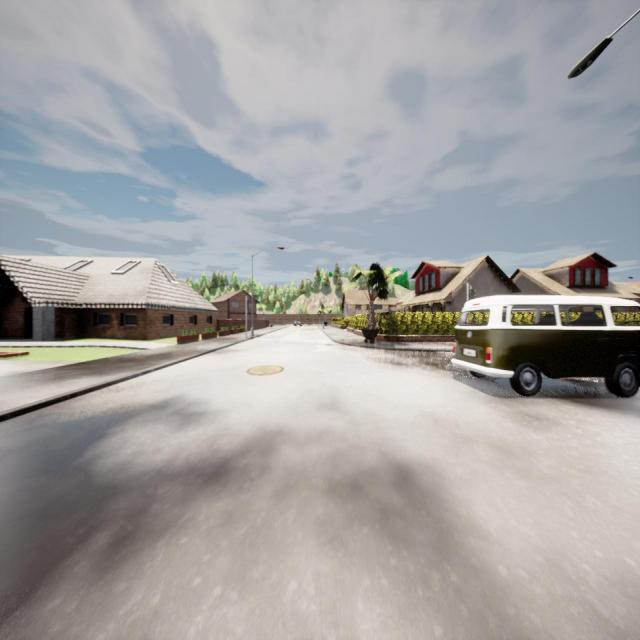Vehicle: (452, 294, 640, 396), (294, 319, 302, 327)
